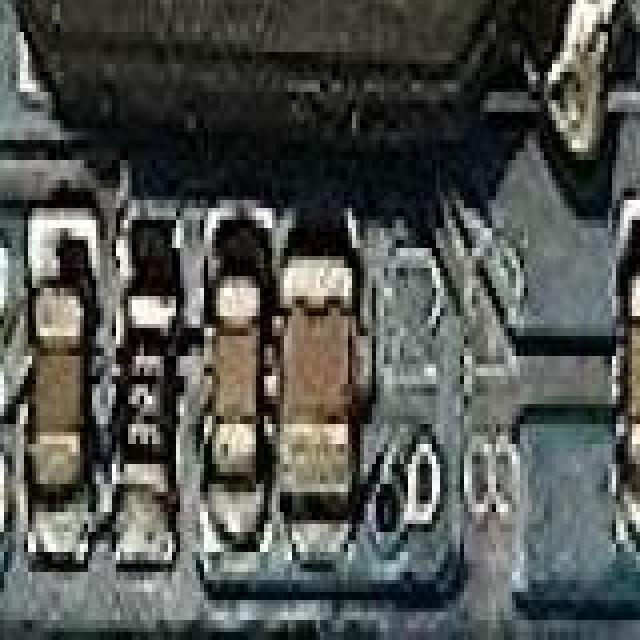capacitor: (276, 236, 356, 512), (204, 252, 272, 506), (32, 276, 88, 510), (600, 252, 640, 524)
inductor: (0, 0, 640, 172)
resistor: (120, 280, 178, 508)
